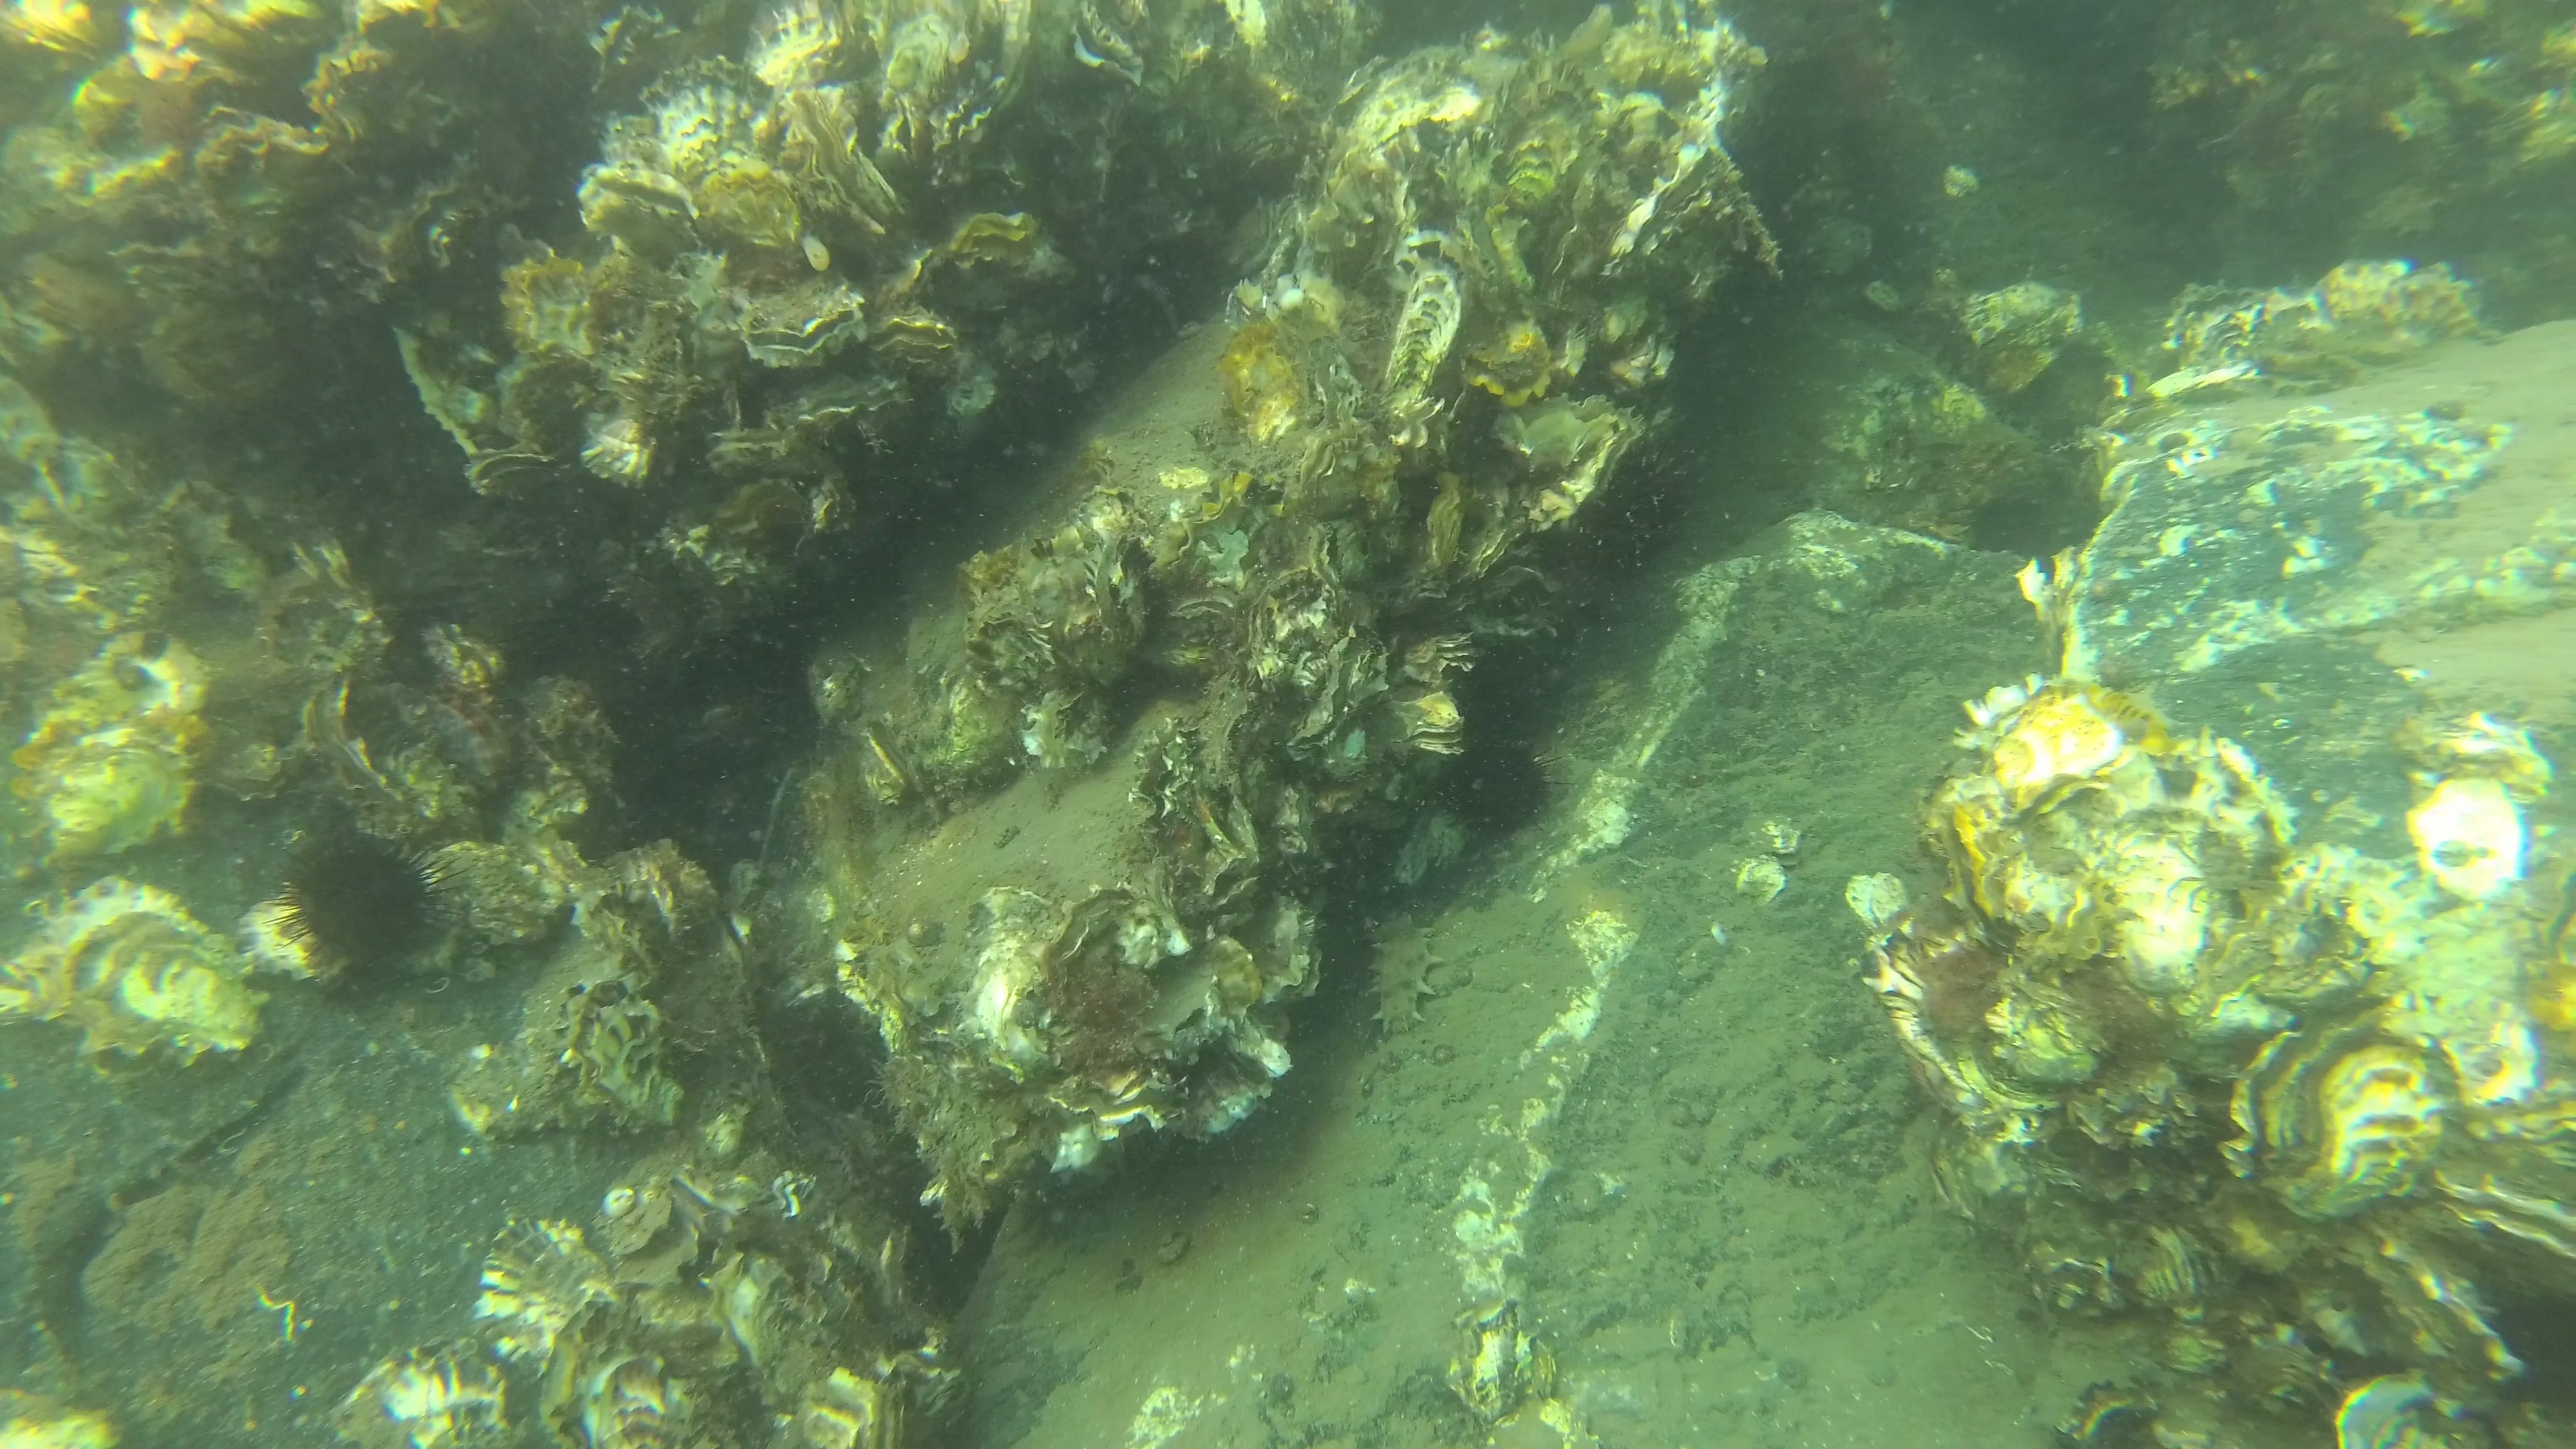echinus: (278, 830, 467, 973), (1596, 455, 1697, 586), (1440, 740, 1562, 847)
